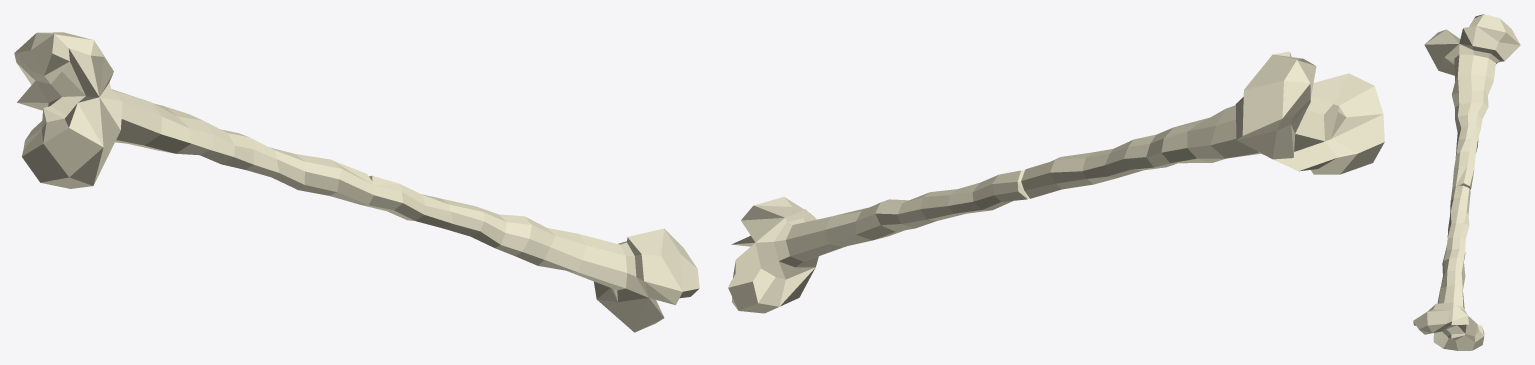
Rendered from hueso.gltf.
3 renders of one model, left to right at view 1: azimuth 30°, elevation 25°; view 2: azimuth 150°, elevation 25°; view 3: azimuth 270°, elevation 25°, orthographic. The views are drawn at different scales.
Visible parts, largest first — view 1: bone; view 2: bone; view 3: bone.
Boxes of the visible parts, x1,y1,x2,y2 form: bone: [14, 32, 699, 332]; bone: [728, 51, 1384, 313]; bone: [1413, 14, 1520, 350].
Size of the model in its own units: 5.62 by 3.29 by 1.6.
